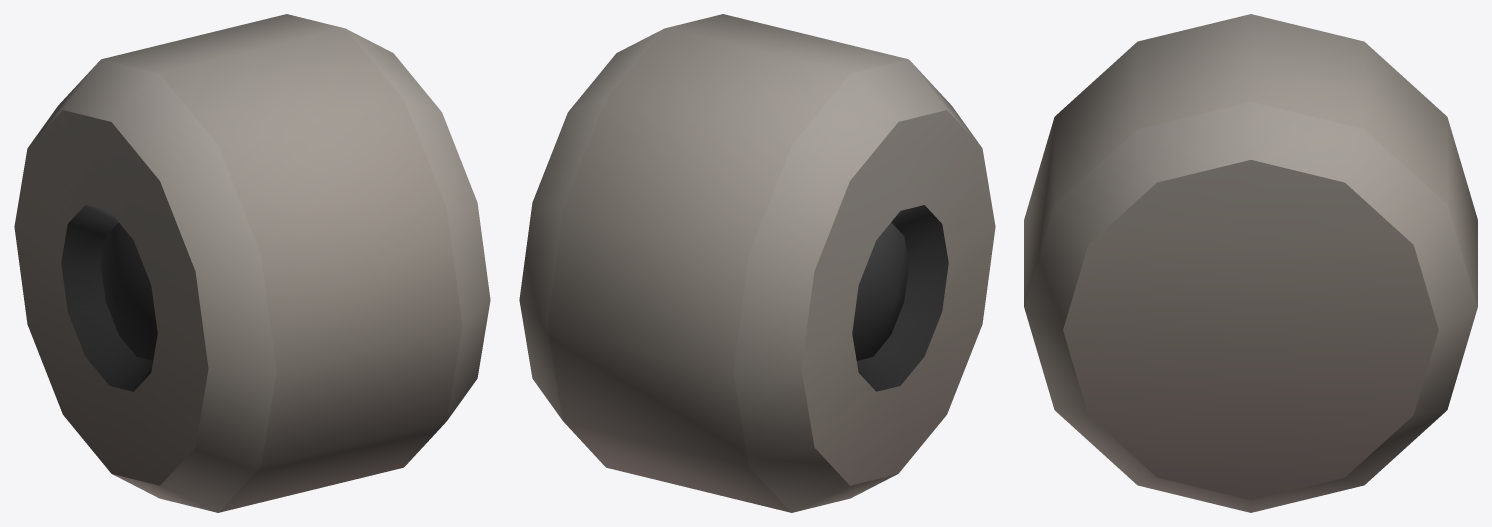
The model's file is spacetruck_large_wheel_front_right.obj.
3 views of the same model, side by side, from view 1: azimuth 30°, elevation 25°; view 2: azimuth 150°, elevation 25°; view 3: azimuth 270°, elevation 25° (orthographic). The views are drawn at different scales.
Bounding box in the file's own units: 0.162 × 0.228 × 0.228.
1 material, 1 textured.
